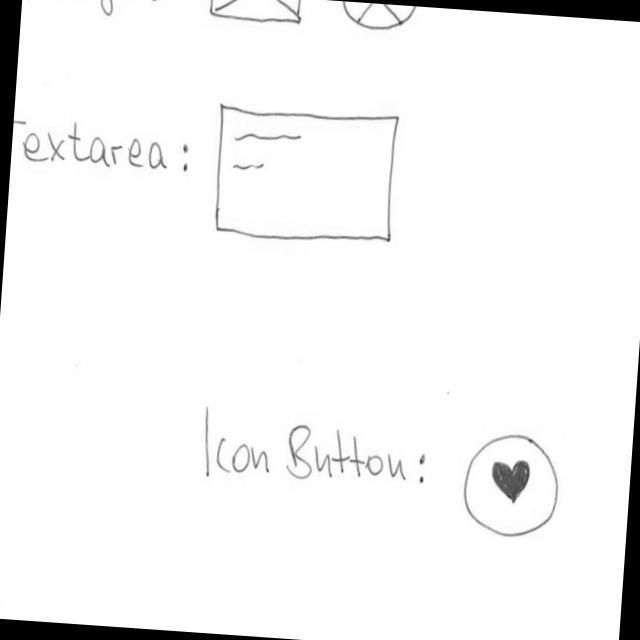icon-button: (460, 426, 565, 542)
image: (202, 1, 306, 31), (337, 2, 422, 37)
textarea: (210, 98, 404, 251)
